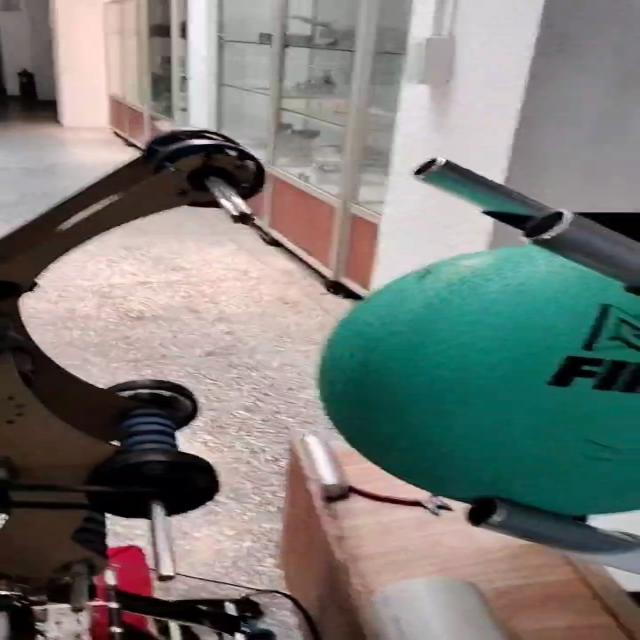ALGAE: (323, 232, 640, 522)
CORAL: (365, 570, 511, 640)
